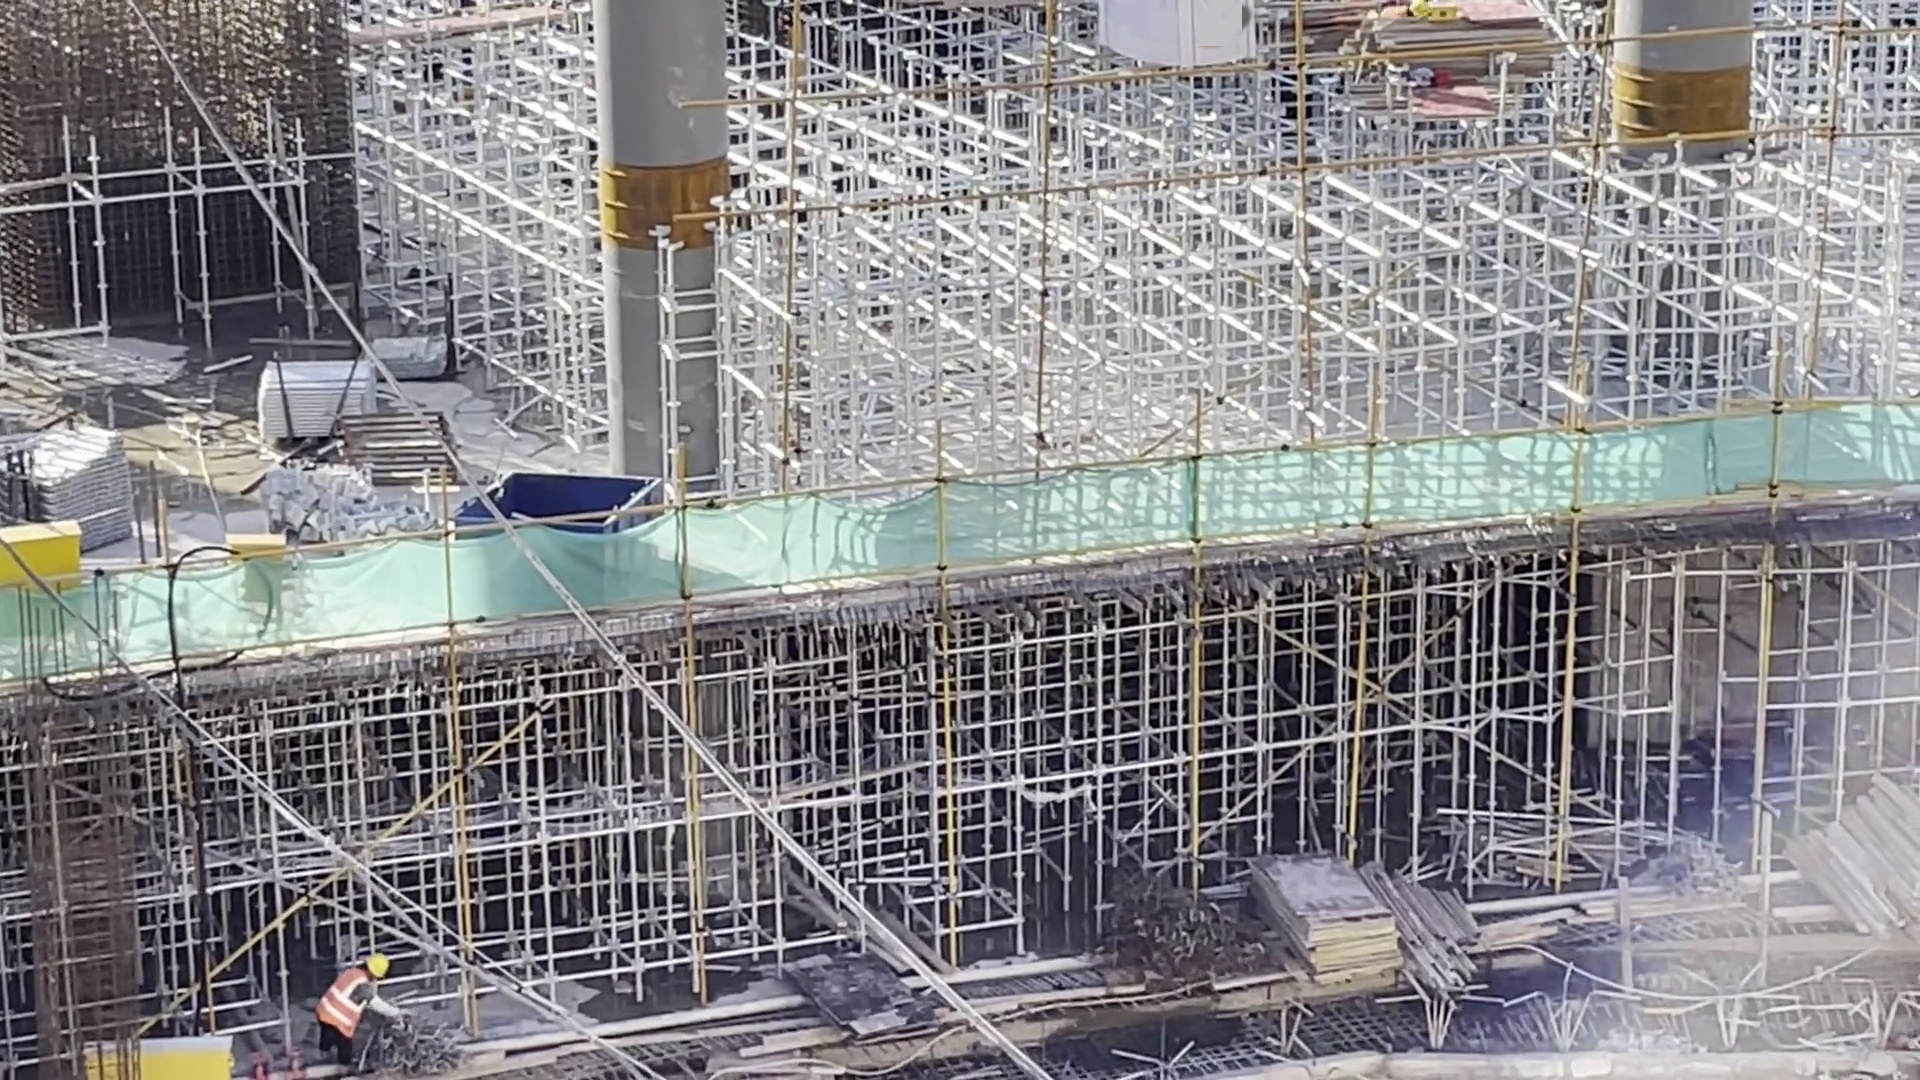board: (1219, 856, 1376, 989), (1374, 1, 1553, 101)
ebox: (89, 1022, 249, 1080), (8, 529, 81, 604), (216, 542, 293, 601)
helmet: (364, 949, 396, 982), (1410, 1, 1429, 12)
hopper: (473, 481, 651, 584)
person: (328, 943, 389, 1041)
scaffold: (253, 347, 373, 446), (26, 427, 119, 546)
vest: (313, 976, 368, 1031)
wood: (1808, 776, 1920, 882)
